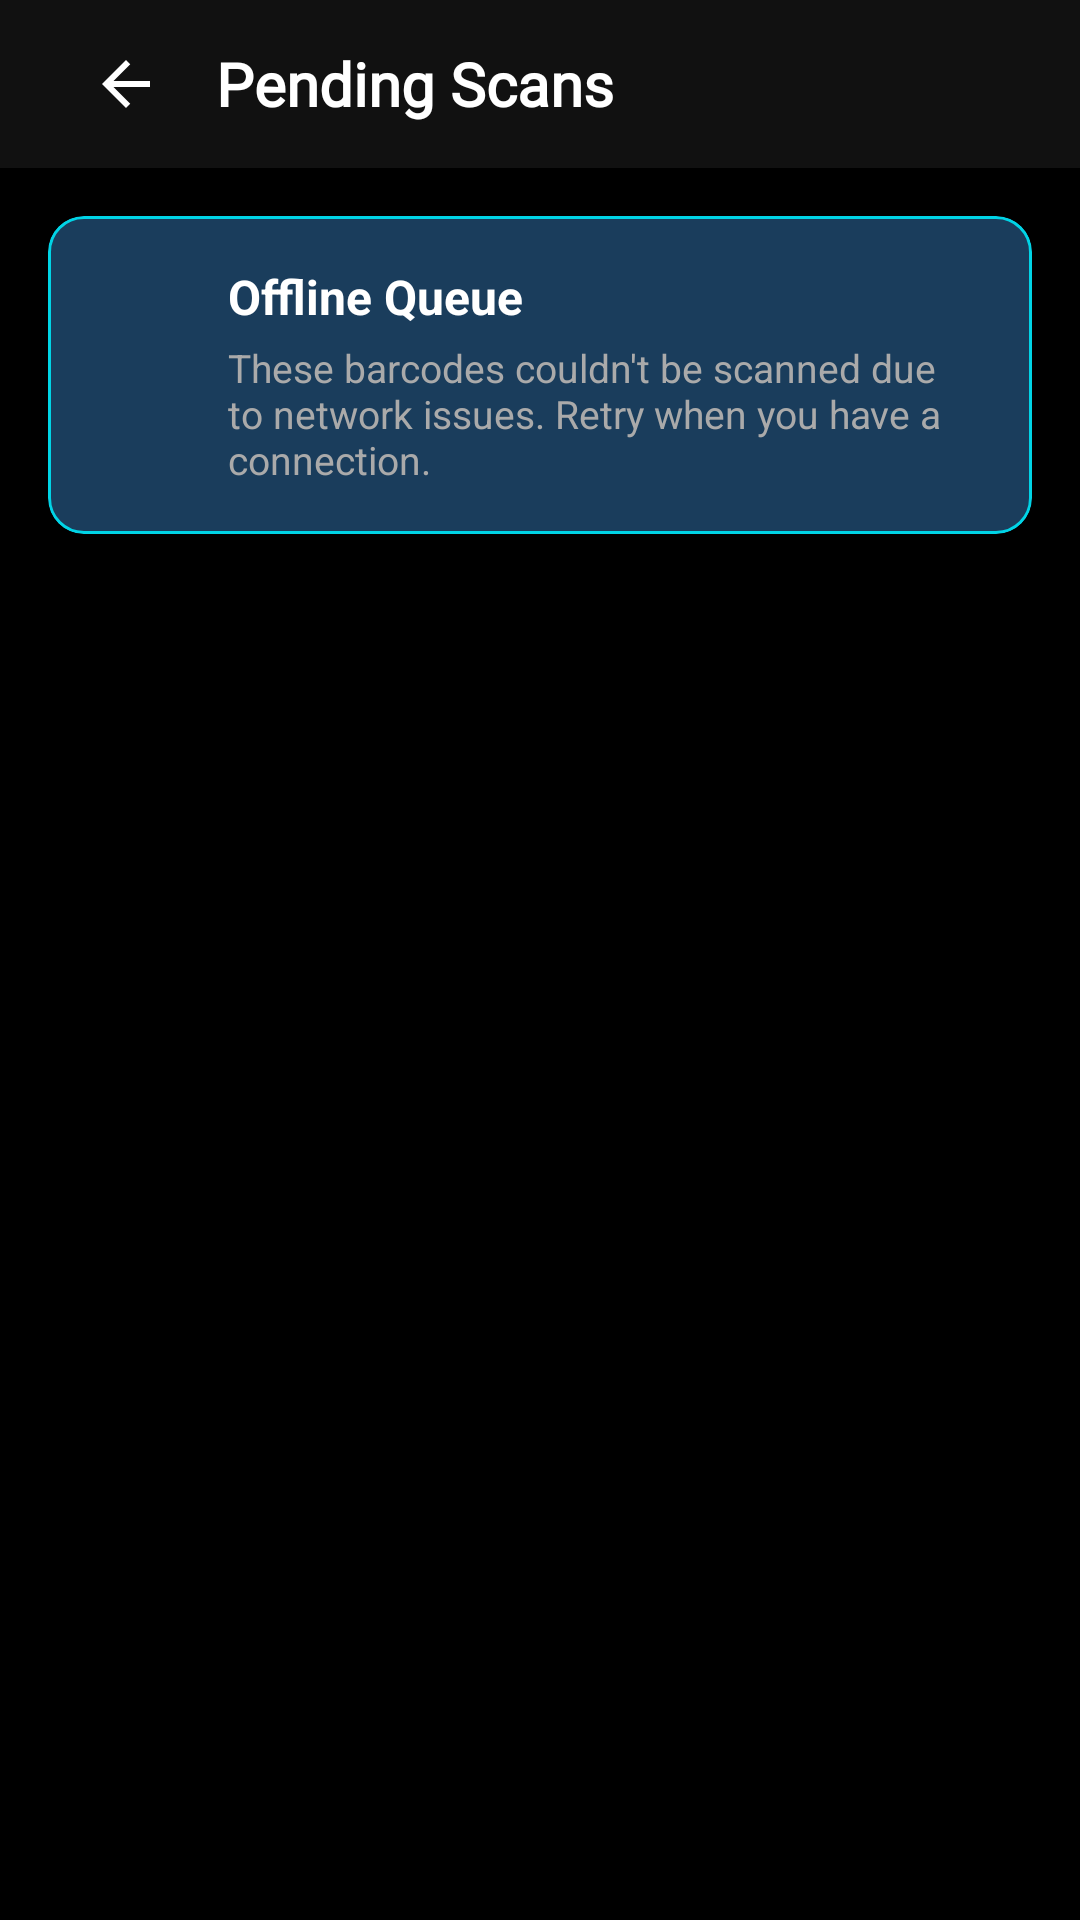

Icon click points for this 1080 x 1920 phone screenshot, format (x=x, y=y):
back: (x=126, y=84)
